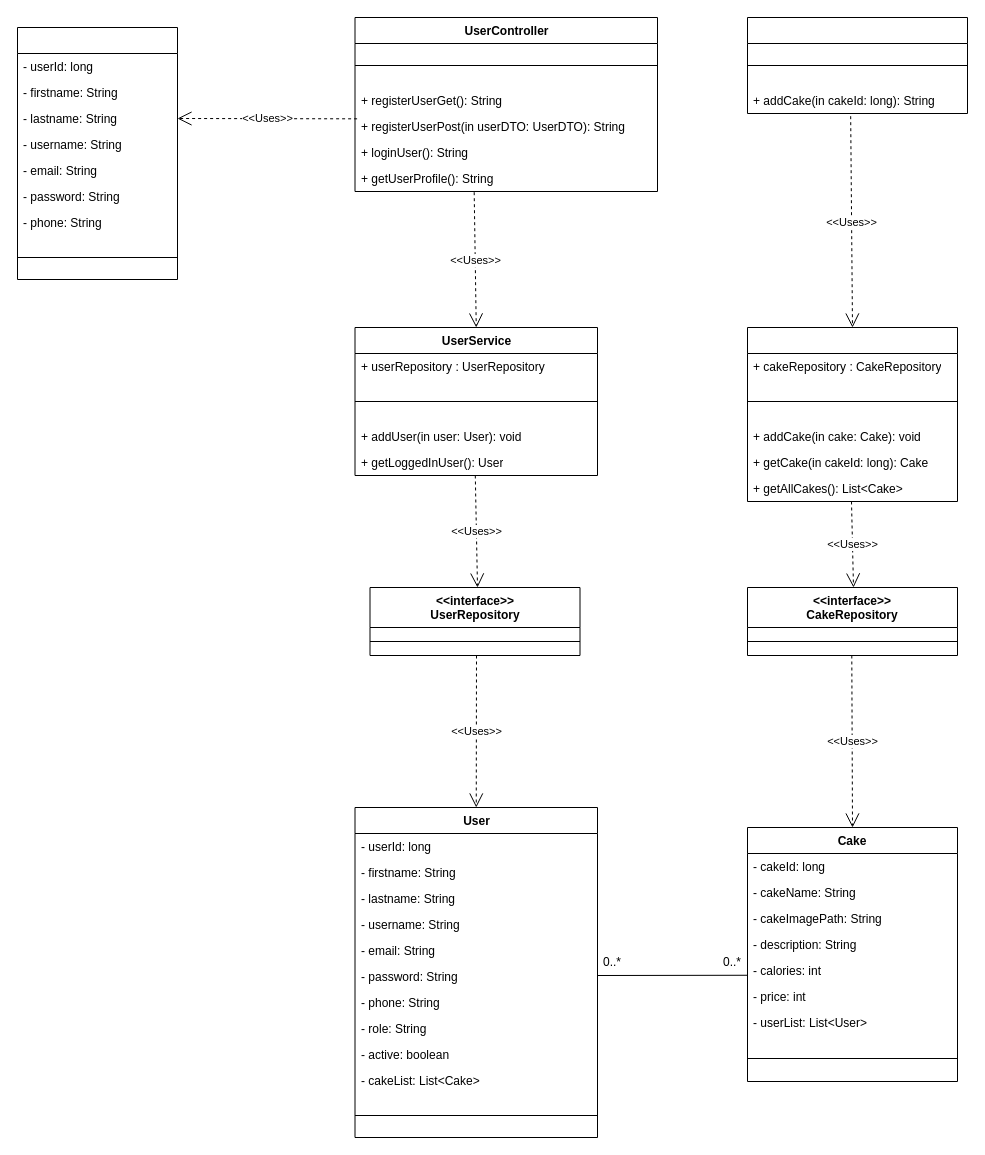
Some shapes in this 985 by 1155 pixel diagram are drawn without their labels. The box of each missing label's shape, as (x1, y1, x2, y2) in pixels:
CakeController: (746, 16, 968, 114)
CakeService: (746, 326, 958, 502)
UserDTO: (16, 26, 178, 280)
